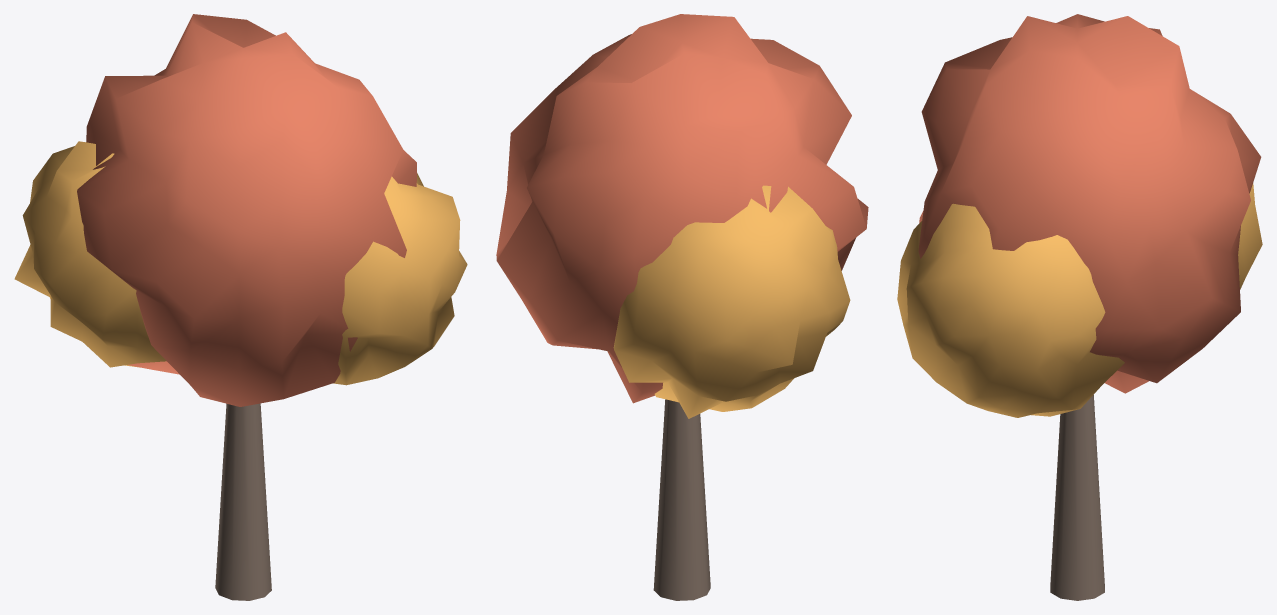
Rendered from autumn_maple.glb.
3 views of the same model, side by side, from view 1: azimuth 30°, elevation 25°; view 2: azimuth 150°, elevation 25°; view 3: azimuth 270°, elevation 25° (orthographic).
Parts seen in each view (by area): view 1: RootNode; view 2: RootNode; view 3: RootNode.
Part boxes in pixels (box(x1,y1,x2,y2)): RootNode: box(14, 14, 467, 600); RootNode: box(496, 14, 868, 600); RootNode: box(897, 14, 1262, 600).
Size of the model in its own units: 10.32 by 15.5 by 9.17.
